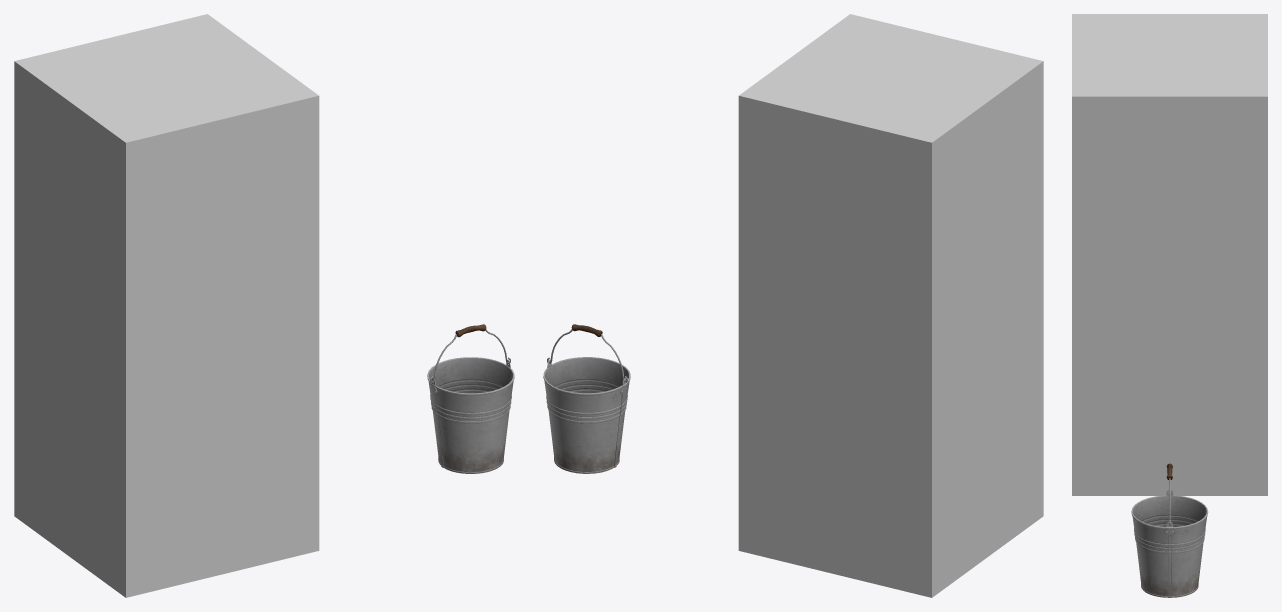
The model's file is bucket.glb.
3 renders of one model, left to right at view 1: azimuth 30°, elevation 25°; view 2: azimuth 150°, elevation 25°; view 3: azimuth 270°, elevation 25°, orthographic. The views are drawn at different scales.
Parts seen in each view (by area): view 1: Cube, Цилиндр.025; view 2: Cube, Цилиндр.025; view 3: Cube, Цилиндр.025.
Boxes of the visible parts, <box> form: Cube: <box>14,14,319,597</box>; Цилиндр.025: <box>427,357,514,473</box>; Cube: <box>738,14,1043,597</box>; Цилиндр.025: <box>543,357,630,473</box>; Cube: <box>1072,14,1267,495</box>; Цилиндр.025: <box>1131,495,1208,597</box>.
Bounding box in the file's own units: 1.82 × 1.8 × 0.8.
Materials: 1 (1 with a texture image).
